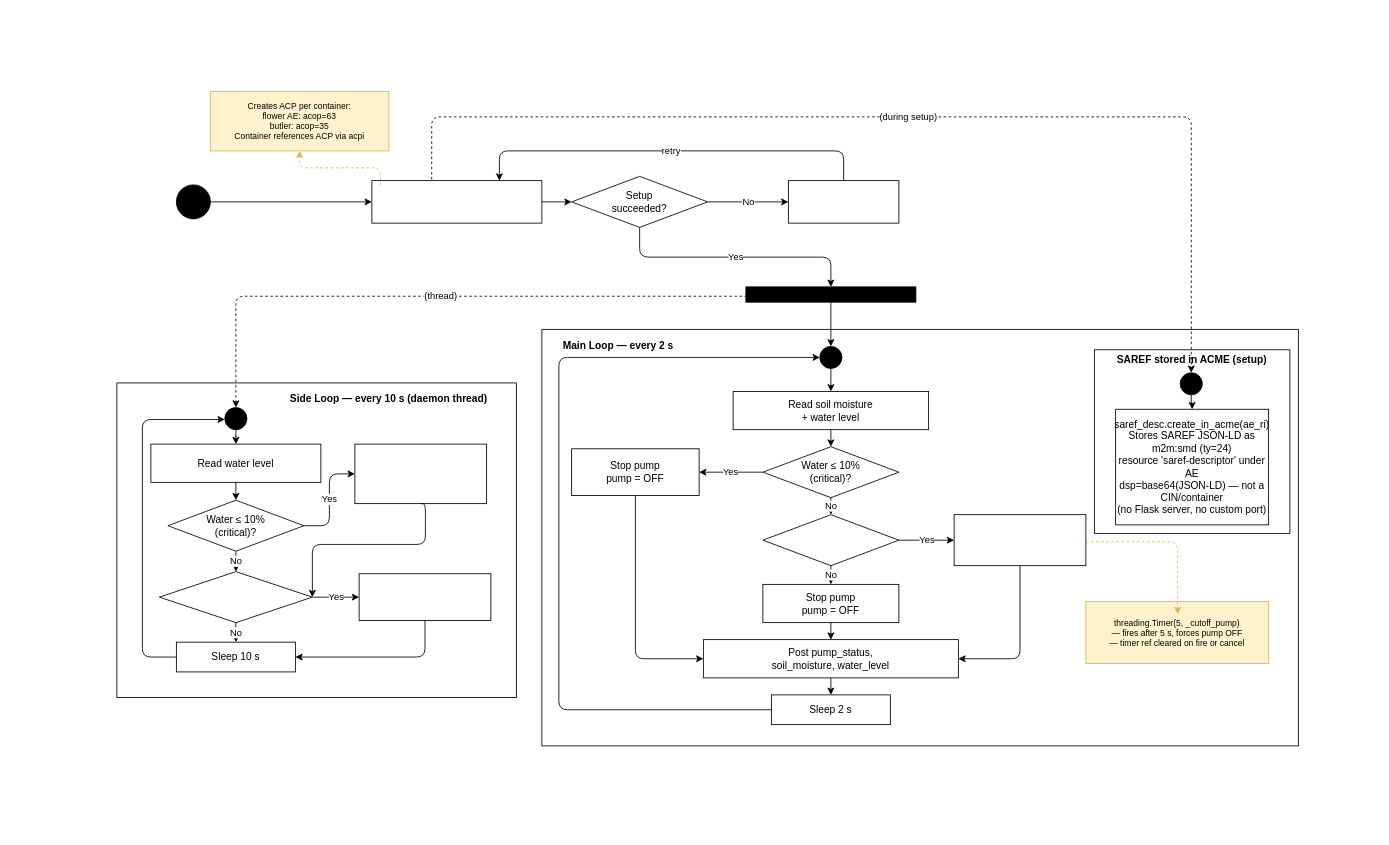
The diagram is 1389 pixels wide and 845 high, and some of its shapes have lost their labels. The shapes that lost their labels are listed below. From the top down, each one's centre as x and y in pixels, then its label:
At (456,201): "Setup (register AE + ACPs + containers)".
At (843,201): "Wait 10 s, retry".
At (420,473): "Stop pump + post water_level to MN-CSE".
At (830,540): "Soil < 20%?".
At (1019,540): "Start pump (5 s safety cutoff)".
At (235,597): "≥ 120 s since last heartbeat?".
At (424,596): "Post heartbeat (ISO timestamp)".
